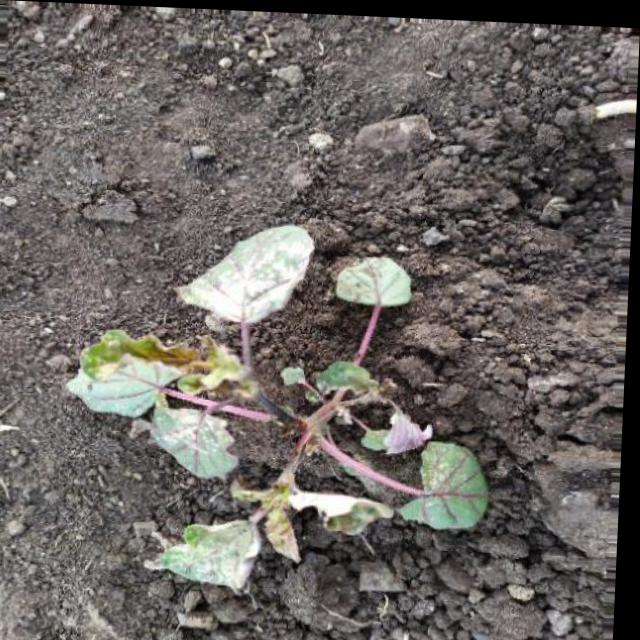weed: (84, 231, 513, 593)
